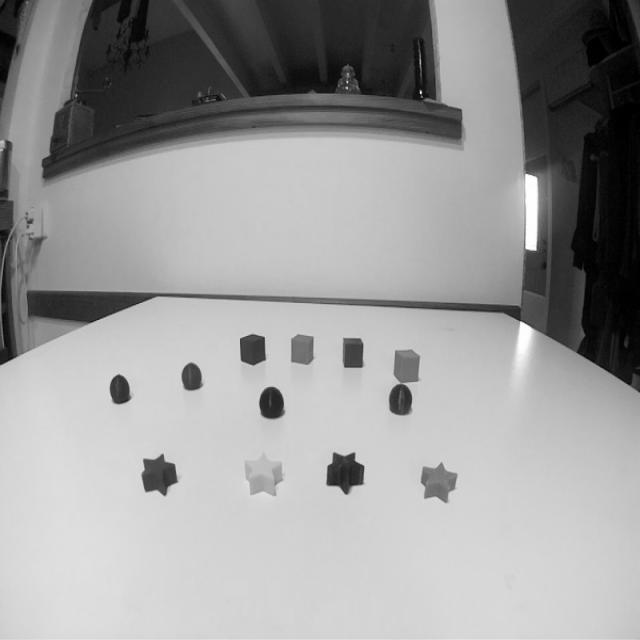ball: (256, 381, 287, 421), (386, 380, 414, 419), (180, 359, 204, 393), (109, 371, 132, 406)
cube: (236, 328, 269, 368), (288, 330, 316, 370), (393, 345, 420, 385), (340, 333, 365, 372)
star: (322, 444, 370, 502), (242, 450, 287, 504), (419, 458, 462, 508), (138, 451, 181, 499)
